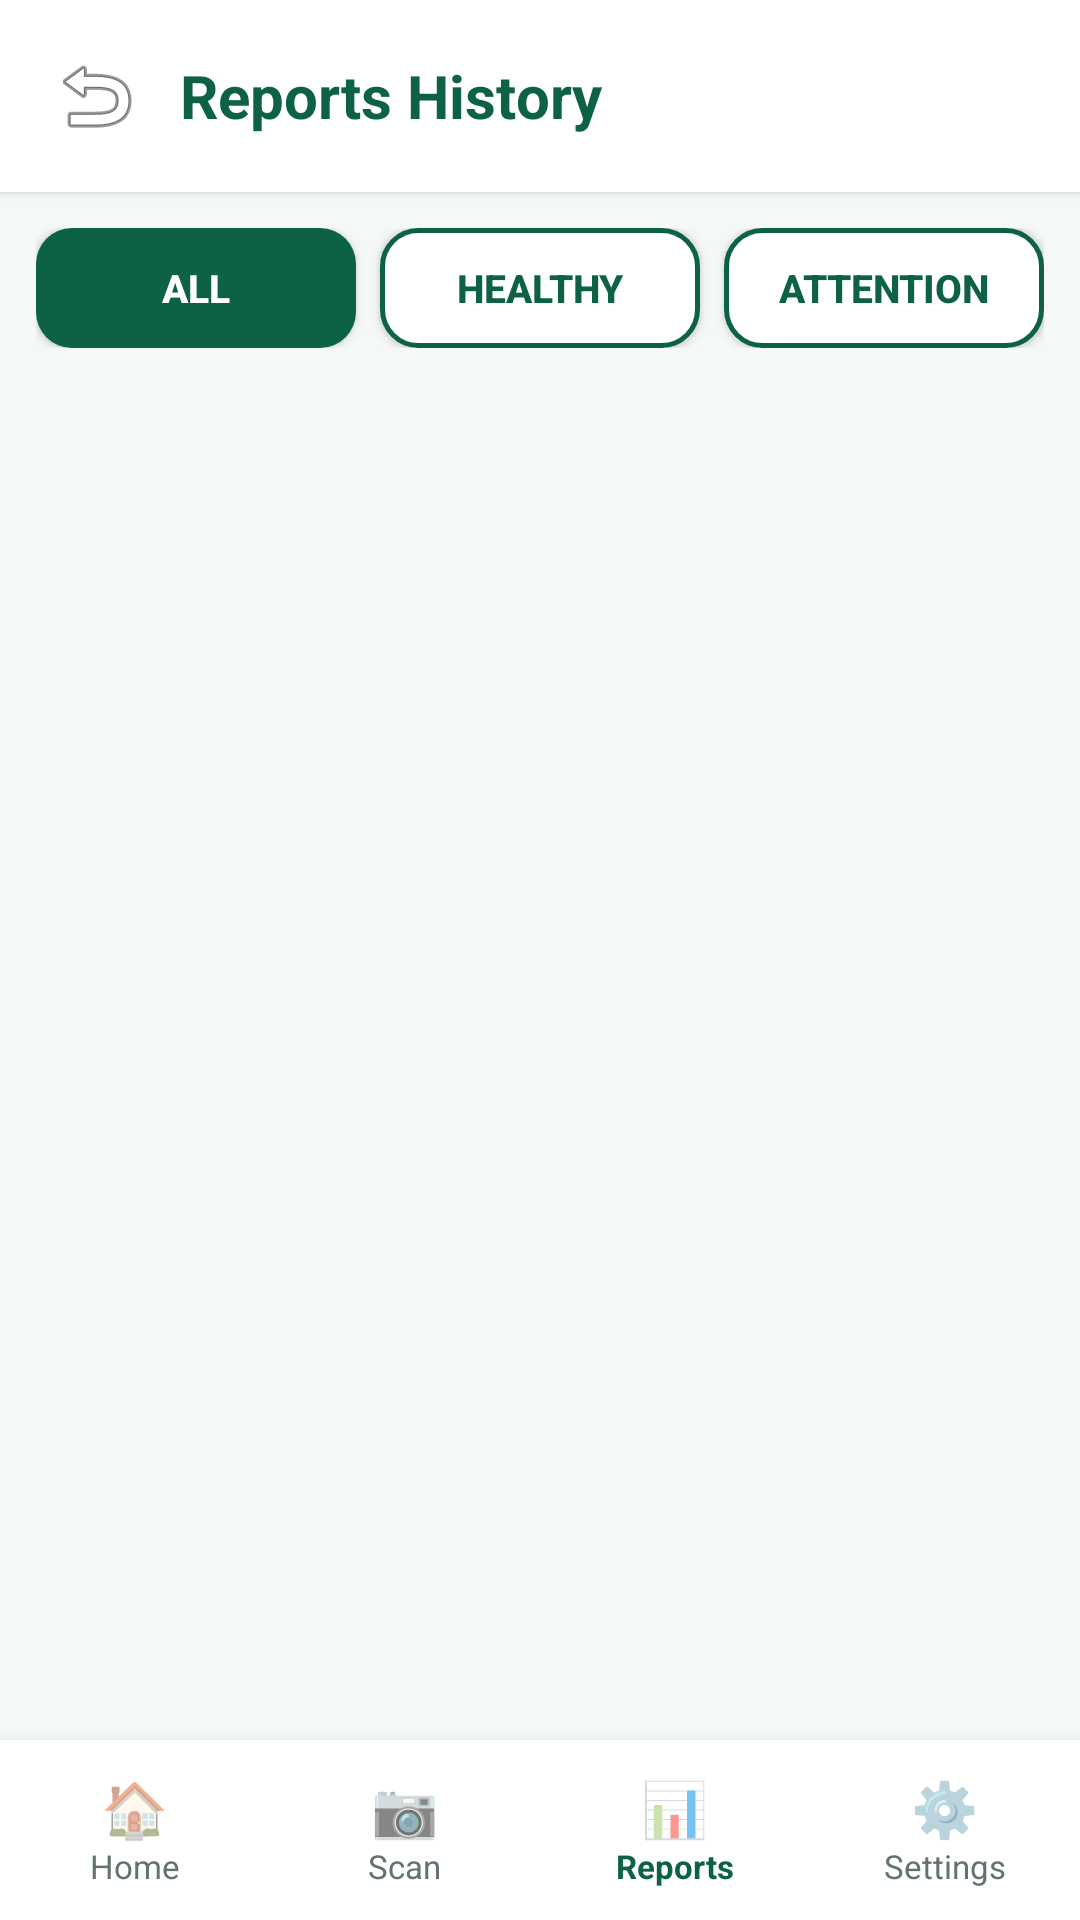

Where to tap for icons on this 1080px×1920px app screen, as point (x, y):
Back: point (97, 96)
